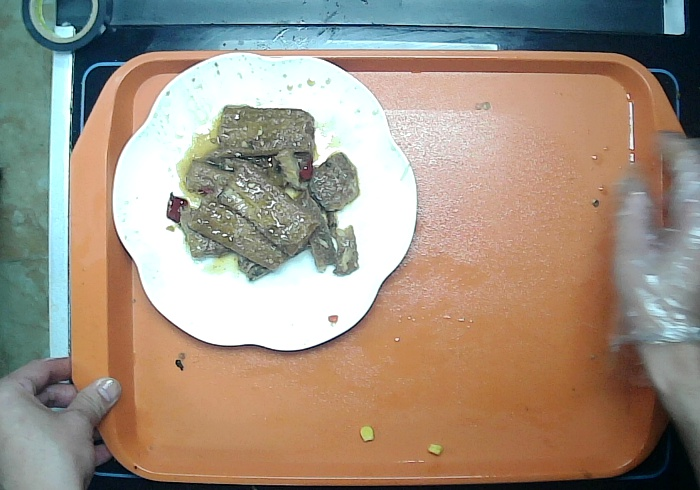HZYJPL-Bai_Se_Hua_Duo_Wan: (109, 44, 424, 358)
